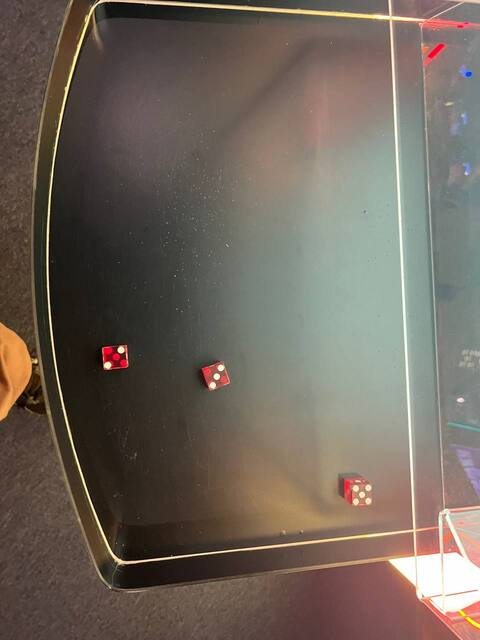five: (349, 480, 375, 510)
three: (200, 360, 233, 392)
two: (98, 340, 132, 371)
